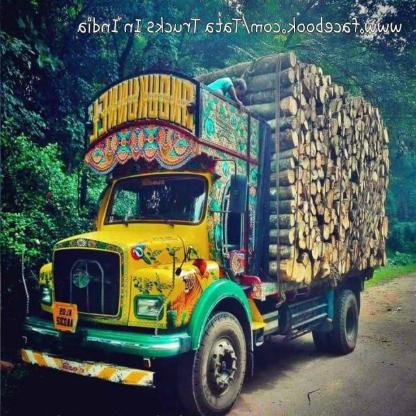truck: (10, 44, 388, 394)
